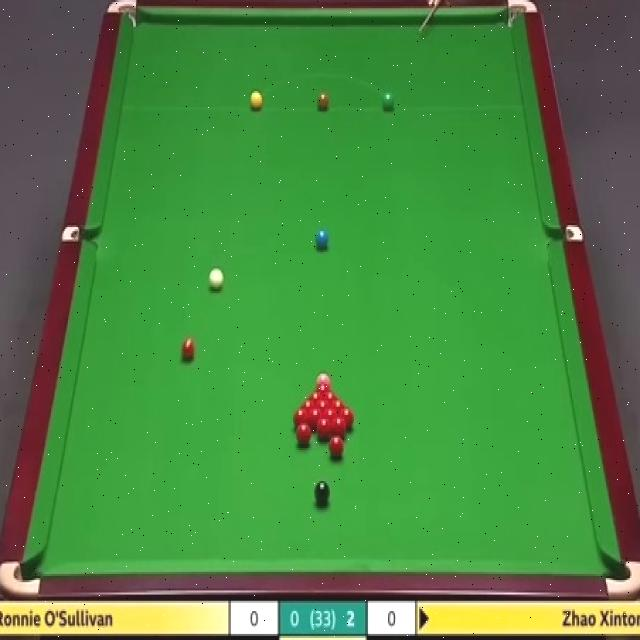black-ball: (314, 480, 331, 508)
blue-ball: (314, 228, 330, 251)
brown-ball: (317, 90, 329, 111)
green-ball: (381, 90, 394, 111)
pink-ball: (316, 371, 332, 386)
red-ball: (180, 336, 198, 364), (328, 437, 346, 460), (330, 417, 347, 439), (296, 422, 311, 444), (316, 417, 331, 439), (293, 407, 310, 424), (324, 409, 338, 429), (338, 409, 355, 425), (309, 408, 322, 427), (315, 400, 332, 410), (300, 399, 316, 409), (331, 400, 347, 410), (323, 391, 339, 401), (308, 391, 323, 400), (315, 383, 331, 391)
white-ball: (210, 268, 224, 291)
yellow-ball: (250, 91, 263, 111)
